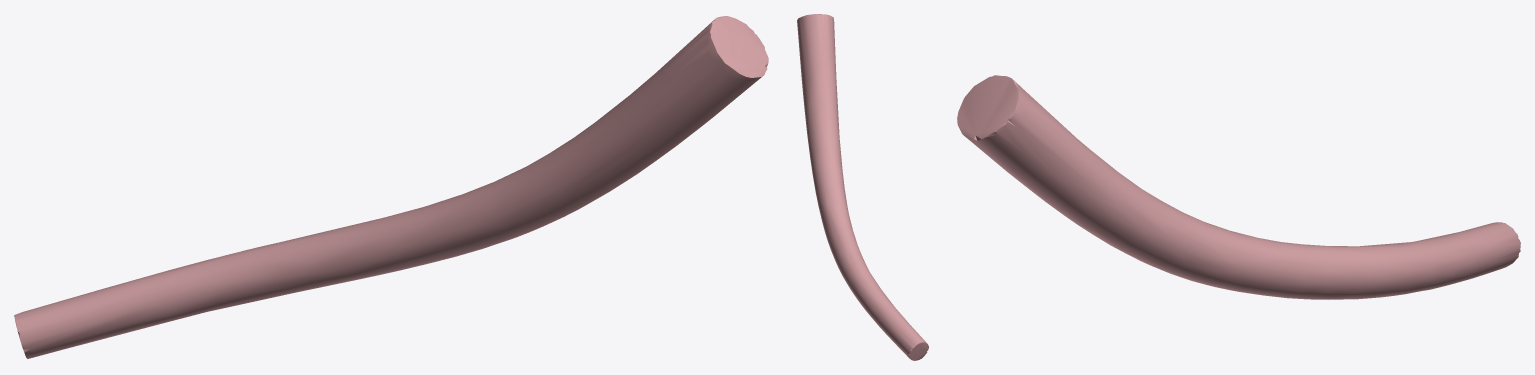
Rendered from fma68591_fj6566.glb.
The picture shows the model from 3 angles, left to right: view 1: azimuth 30°, elevation 25°; view 2: azimuth 150°, elevation 25°; view 3: azimuth 270°, elevation 25°; orthographic projection. The views are drawn at different scales.
Parts seen in each view (by area): view 1: FMA68591_FJ6566; view 2: FMA68591_FJ6566; view 3: FMA68591_FJ6566.
Part boxes in pixels (box(x1,y1,x2,y2)): FMA68591_FJ6566: box(14, 16, 768, 358); FMA68591_FJ6566: box(797, 14, 928, 360); FMA68591_FJ6566: box(957, 75, 1520, 299).
Bounding box in the file's own units: 0.031 × 0.0239 × 0.0301.
